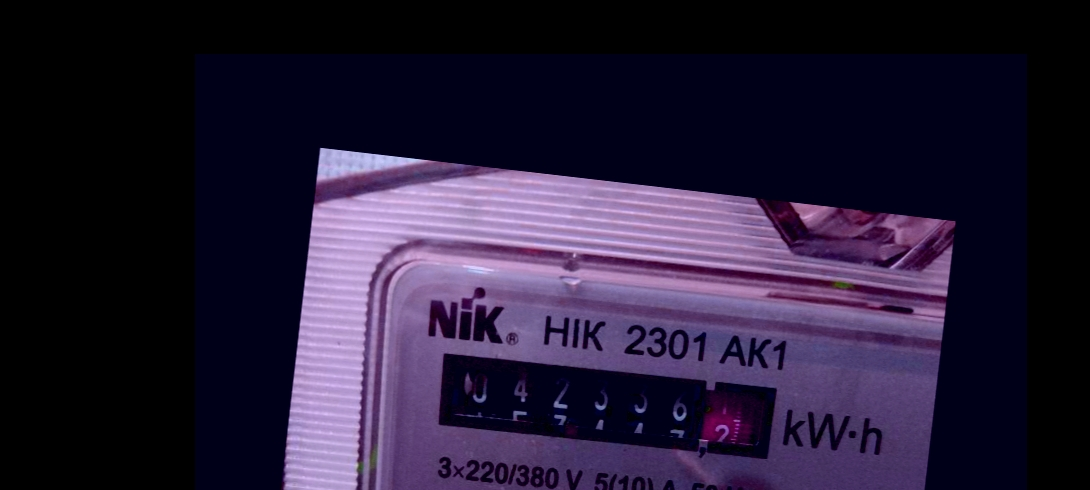0: (469, 368, 493, 405)
1: (717, 387, 733, 417)
2: (550, 373, 574, 411), (711, 421, 732, 444)
3: (591, 374, 614, 414), (629, 378, 653, 416)
4: (510, 365, 533, 404)
6: (667, 386, 693, 423)
screen: (427, 338, 788, 471)
